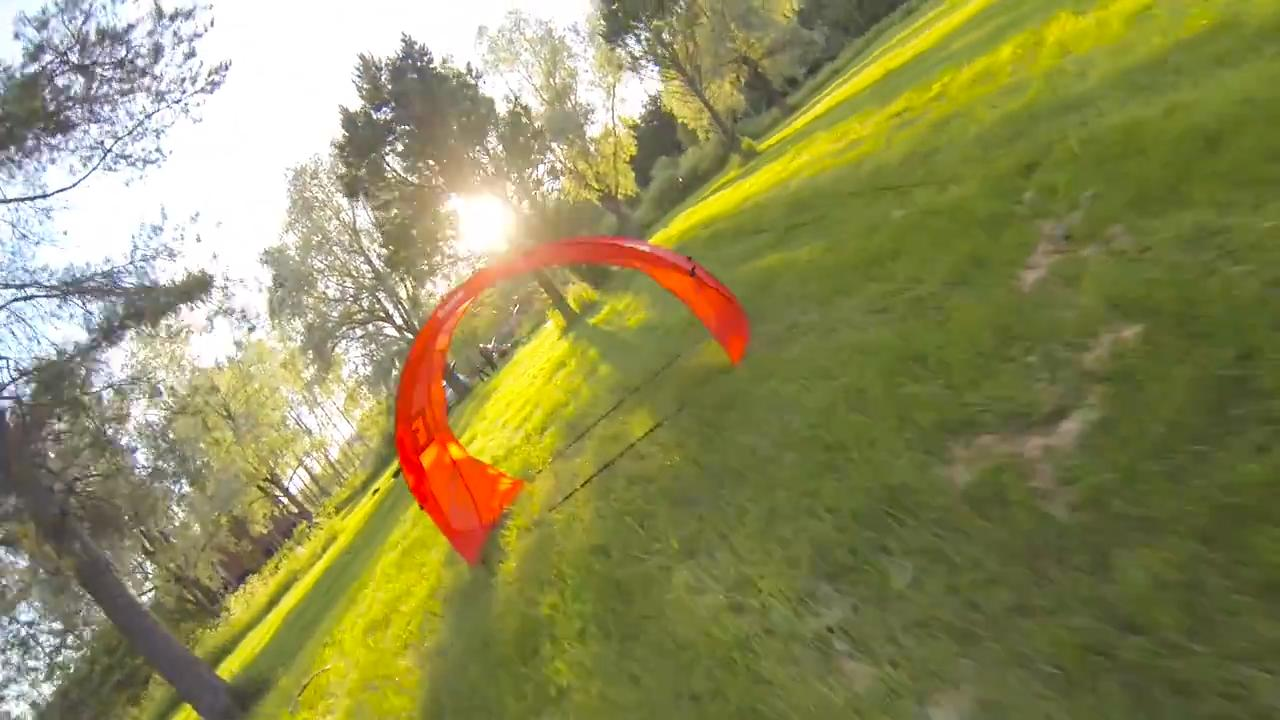gate: (386, 230, 754, 569)
